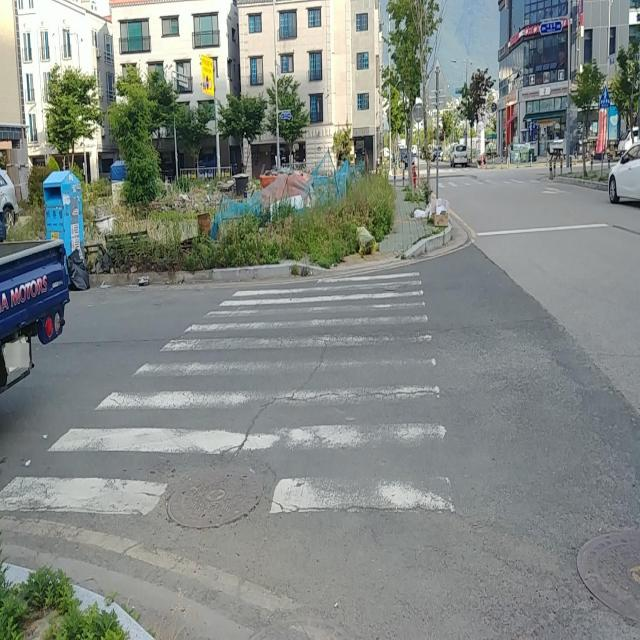횡단보도: (0, 269, 458, 516)
